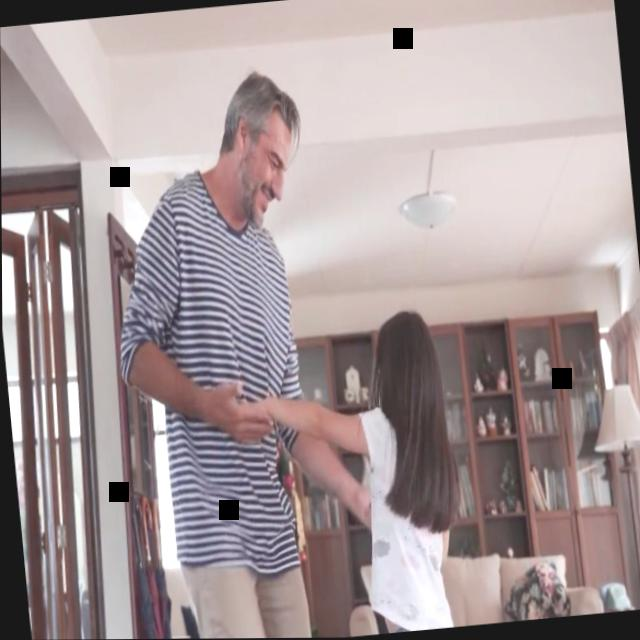Mask: (241, 111, 301, 233)
